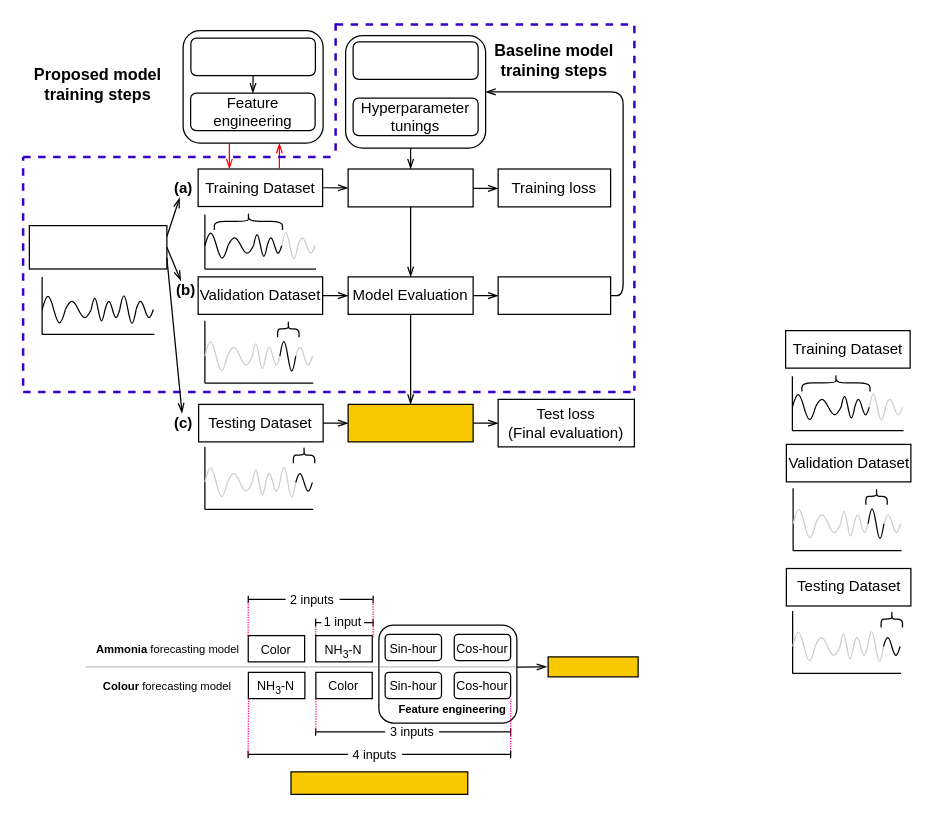
This 933x816 diagram has some shape labels left out. The centre of each missing label's shape, as x and y in pixels:
Data smoothing: (x=252, y=56)
Model Training: (x=410, y=187)
Optimized Model: (x=410, y=422)
Raw Data (Time Series Data): (x=97, y=246)
Selection of varied algorithms: (x=415, y=60)
Trained models: (x=592, y=666)
Training with selected features: (x=379, y=782)
Validation loss: (x=554, y=295)
